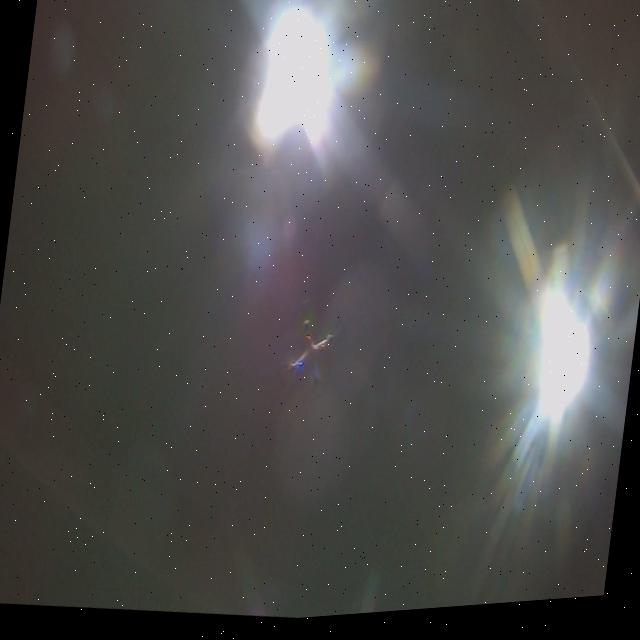drone: (270, 294, 349, 408)
